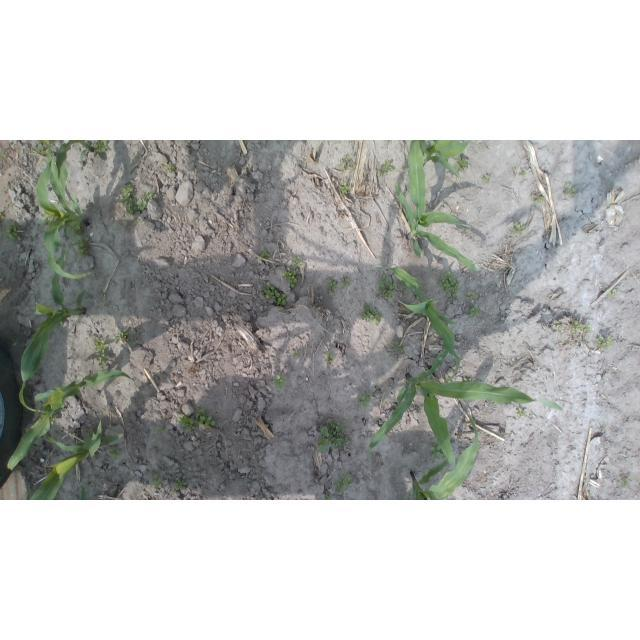Maize: (367, 345, 569, 473), (7, 369, 137, 472), (18, 244, 87, 414), (393, 141, 479, 276), (374, 265, 461, 385), (35, 148, 97, 280), (30, 420, 125, 501), (409, 410, 479, 500), (55, 140, 95, 209), (415, 141, 471, 188), (80, 485, 88, 500)
Weeds: (318, 422, 351, 453), (437, 271, 460, 298), (359, 303, 382, 326), (120, 186, 137, 216), (379, 274, 398, 300), (93, 337, 110, 366), (266, 286, 287, 307), (135, 193, 157, 212), (569, 319, 592, 337), (195, 409, 216, 427), (429, 443, 447, 461), (335, 477, 354, 494), (75, 238, 89, 257), (284, 270, 298, 289), (92, 140, 108, 156), (178, 415, 194, 430), (6, 227, 21, 242), (378, 161, 394, 175), (340, 155, 356, 169), (596, 335, 612, 349), (456, 155, 469, 172), (564, 183, 578, 198), (510, 222, 526, 235), (67, 225, 82, 238), (114, 330, 128, 343), (174, 478, 187, 491), (357, 396, 371, 408), (338, 182, 352, 194), (272, 376, 285, 388), (291, 258, 303, 271), (110, 447, 122, 460), (153, 474, 164, 488), (163, 162, 177, 172), (327, 279, 337, 293), (394, 341, 404, 354), (466, 291, 478, 301), (517, 407, 528, 417), (35, 147, 45, 158), (621, 477, 631, 487), (342, 278, 351, 289), (471, 306, 480, 317), (534, 195, 546, 203), (259, 250, 269, 259), (325, 353, 333, 364), (482, 173, 490, 183), (156, 426, 164, 436), (519, 168, 527, 176), (611, 289, 617, 296), (0, 211, 4, 220)
